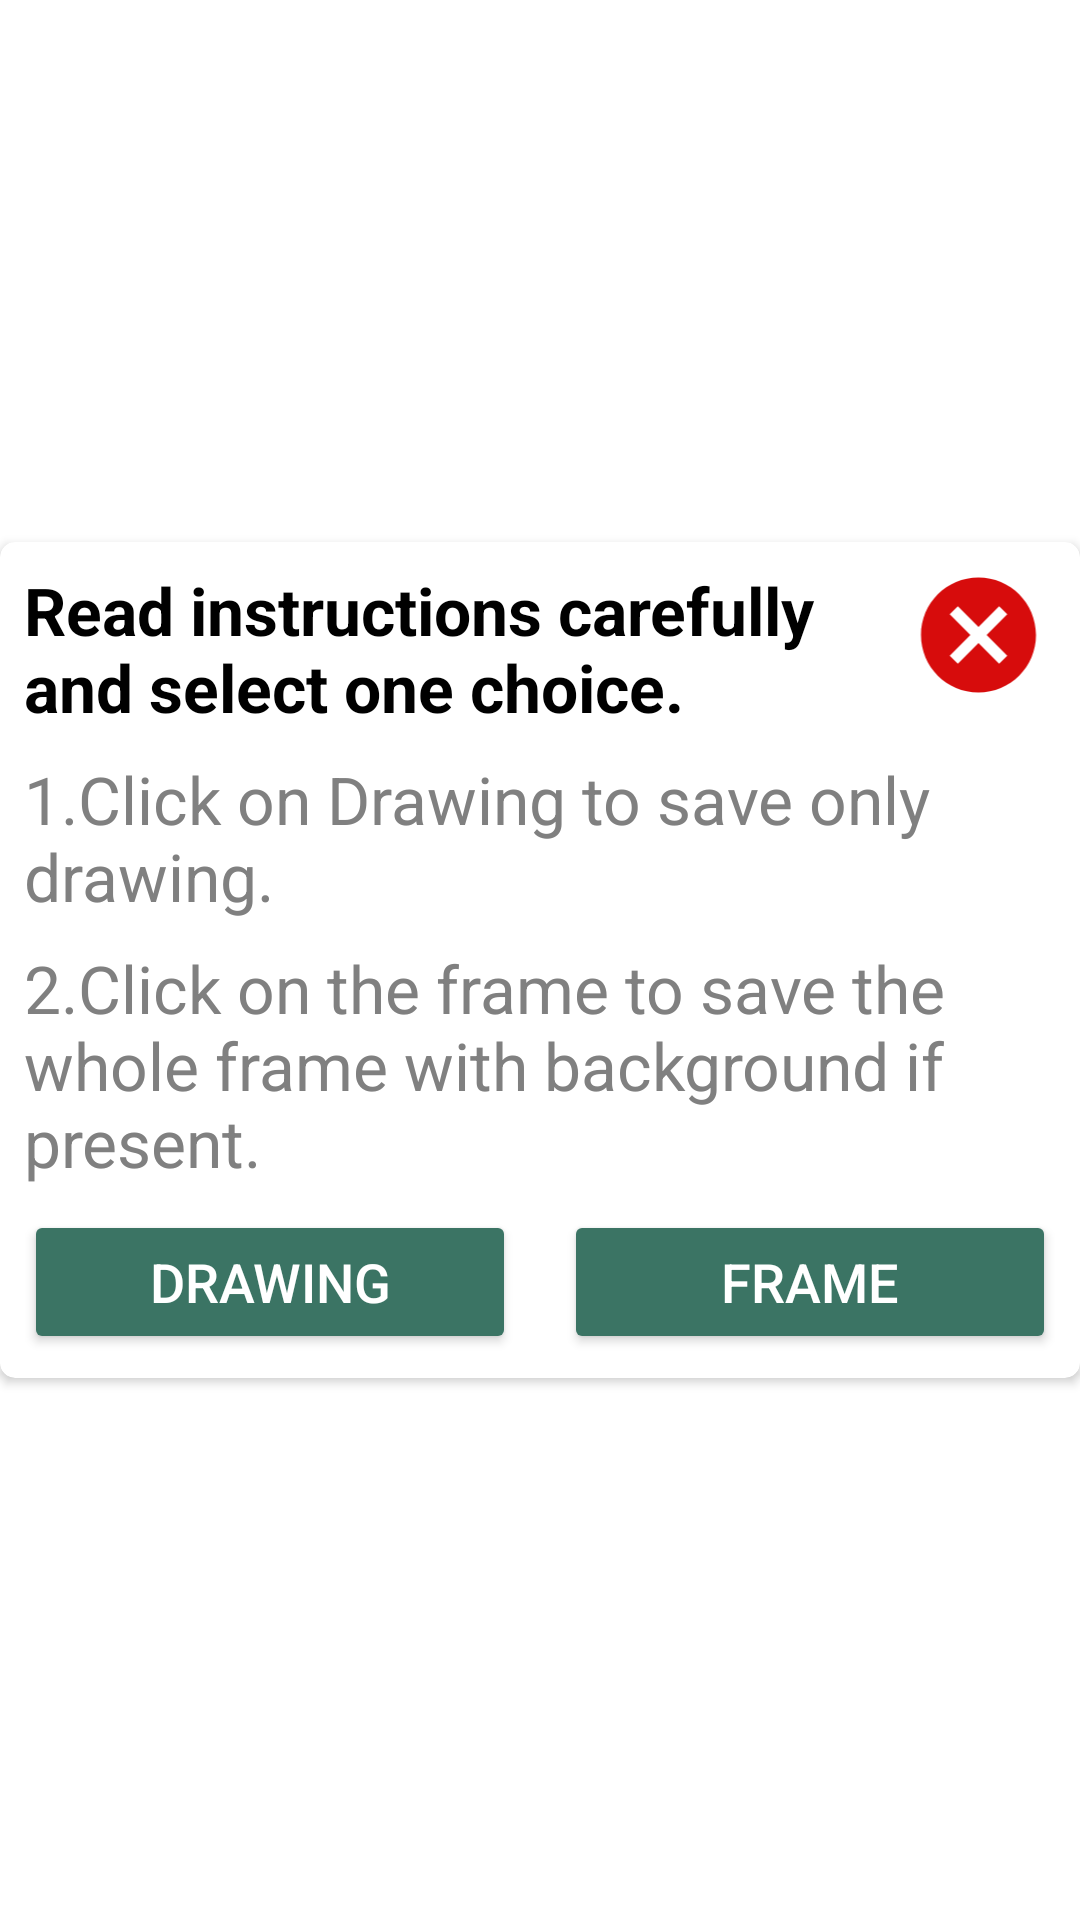

Screen size 1080 × 1920. Icon name, then its center in pixels as (x=x, y=y):
cancel: (x=978, y=635)
